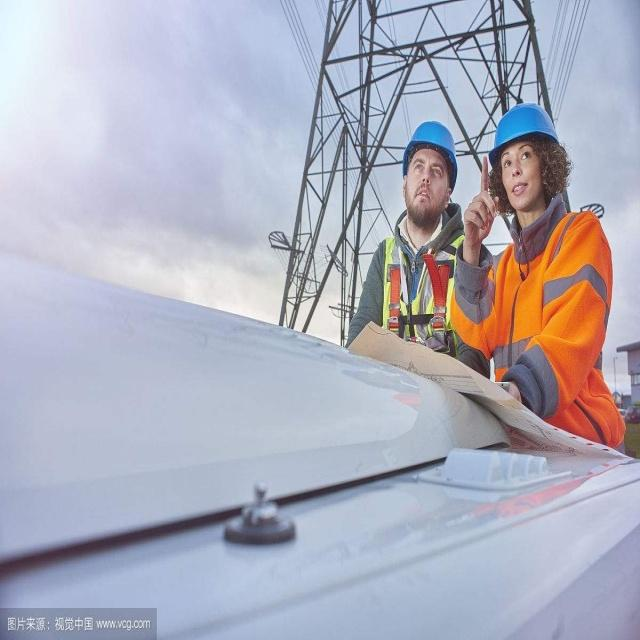helmet: (486, 136, 563, 292), (398, 156, 458, 297)
vest: (474, 286, 626, 594), (379, 300, 479, 519)
